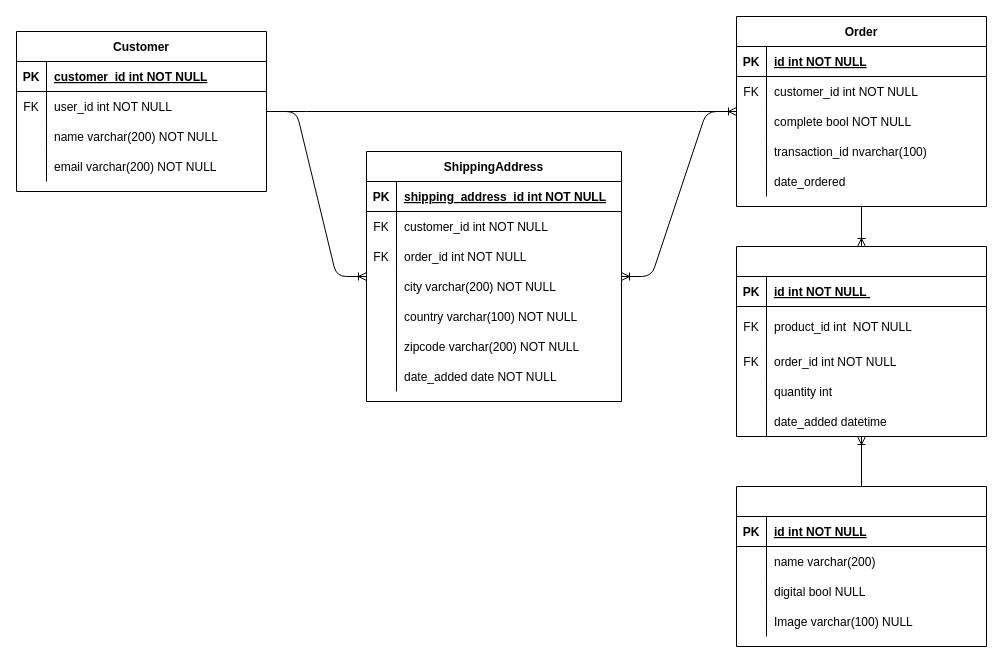
This 1003x663 diagram has some shape labels left out. Each missing label, with the box of its shape:
OrderItem: (736, 246, 986, 436)
Product: (736, 486, 986, 646)
